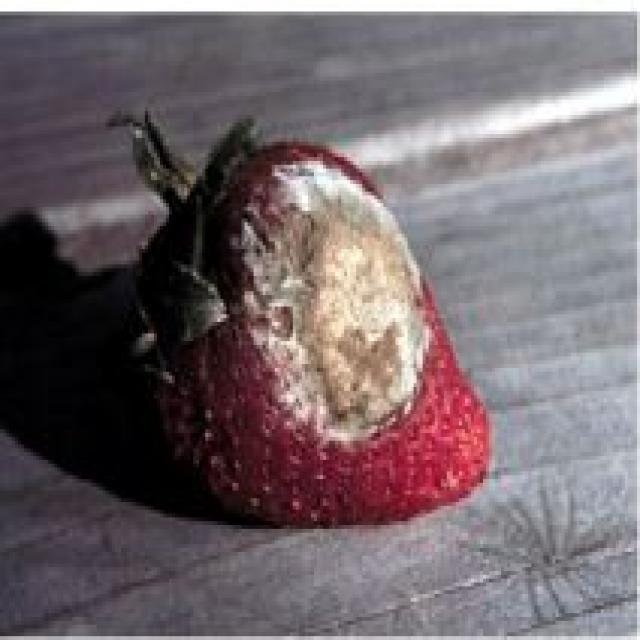Moho gris: (125, 98, 512, 532)
